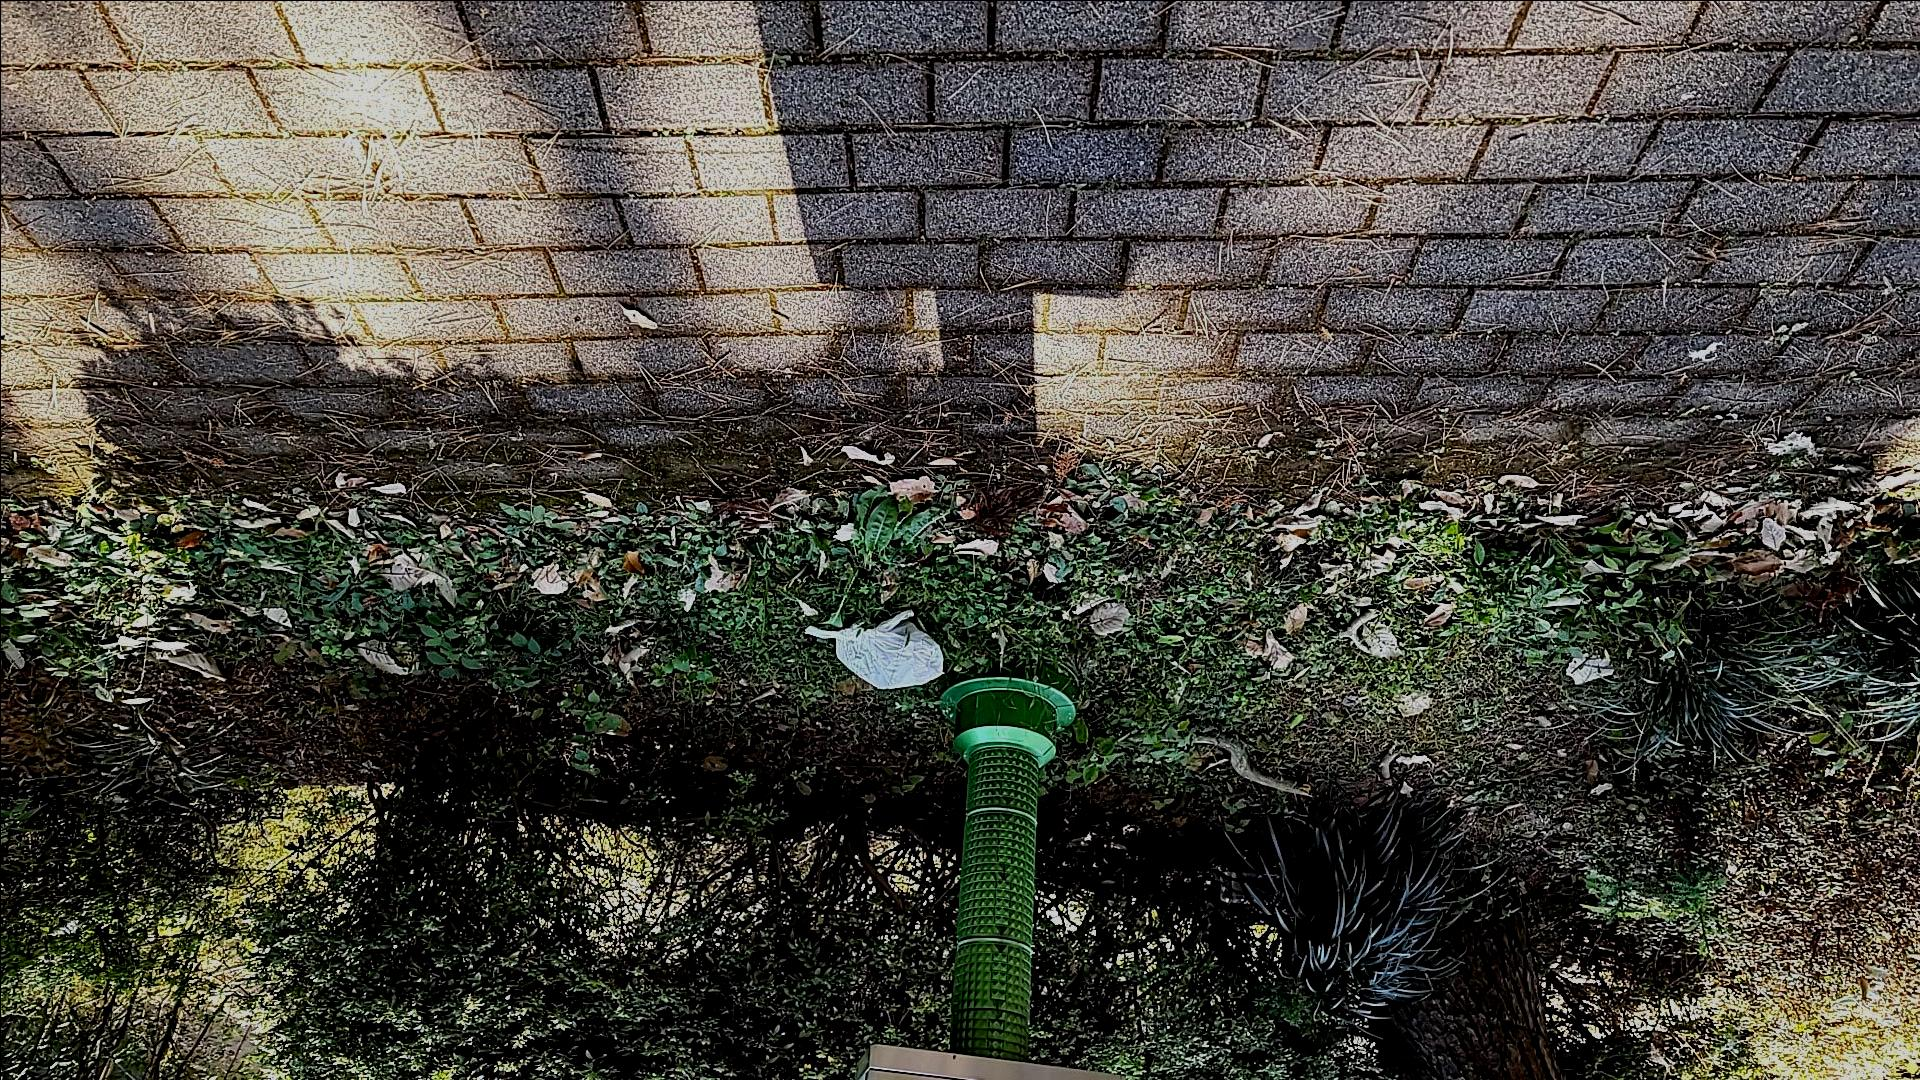white_bag: (798, 601, 957, 699)
